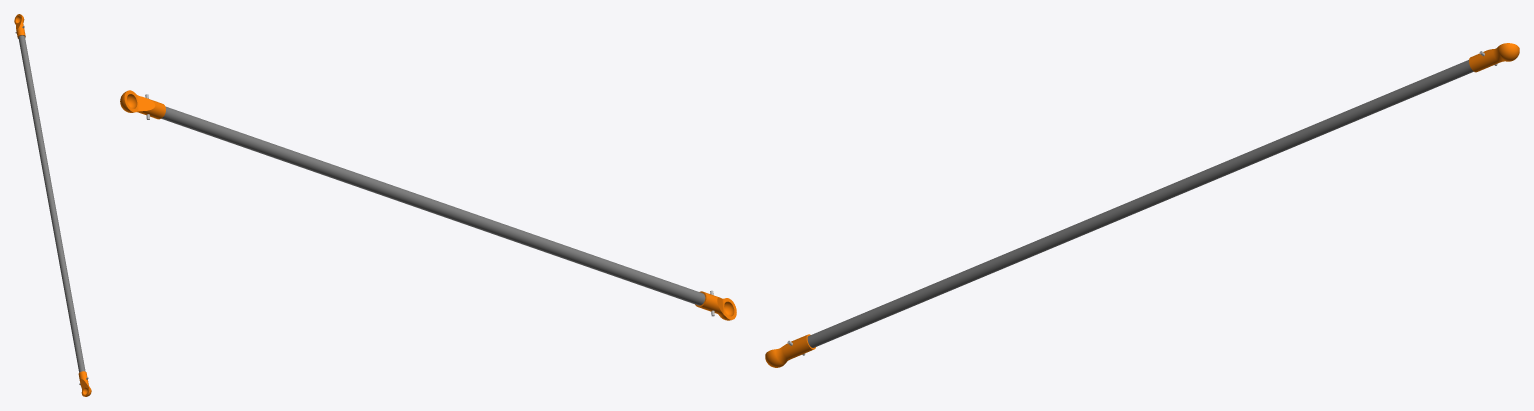
3 views of the same model, side by side, from view 1: azimuth 30°, elevation 25°; view 2: azimuth 150°, elevation 25°; view 3: azimuth 270°, elevation 25° (orthographic). The views are drawn at different scales.
Parts seen in each view (by area): view 1: IRB360_6-1600-STD-4D_rev03_LA2_2_CAD.step1; view 2: IRB360_6-1600-STD-4D_rev03_LA2_2_CAD.step1; view 3: IRB360_6-1600-STD-4D_rev03_LA2_2_CAD.step1.
Part boxes in pixels (bbox=[...]): IRB360_6-1600-STD-4D_rev03_LA2_2_CAD.step1: bbox=[14, 14, 91, 396]; IRB360_6-1600-STD-4D_rev03_LA2_2_CAD.step1: bbox=[120, 90, 736, 320]; IRB360_6-1600-STD-4D_rev03_LA2_2_CAD.step1: bbox=[765, 43, 1519, 367].
Size of the model in its own units: 0.3476 by 0.5911 by 0.9213.
